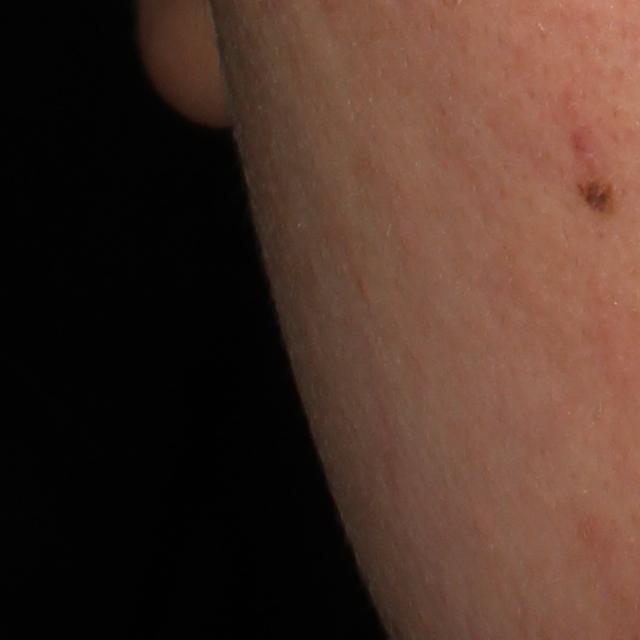nevus: (577, 174, 616, 215)
